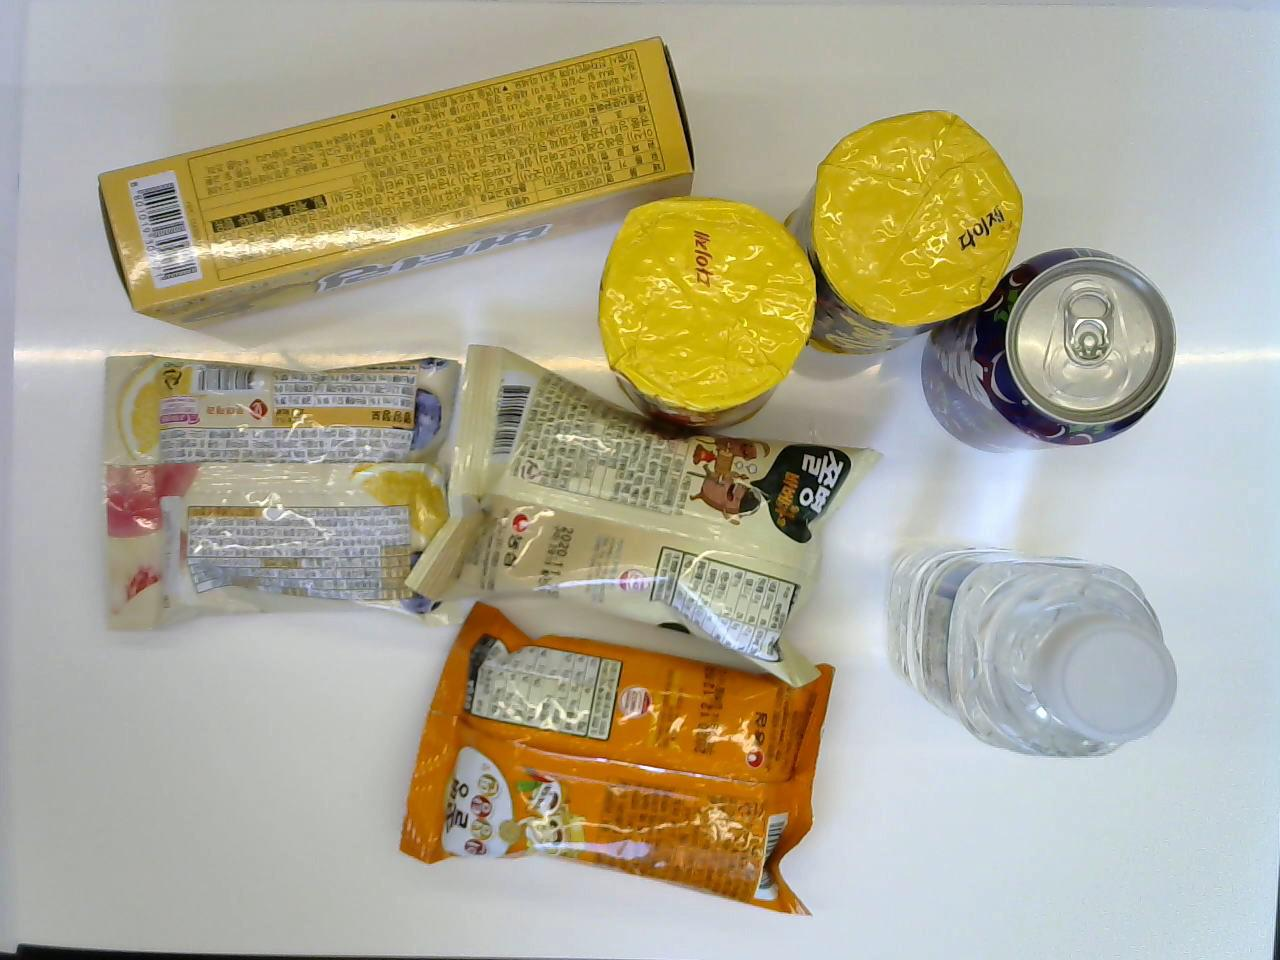buttering: (96, 31, 703, 328)
diget_choco: (777, 101, 1026, 363)
diget_ori: (600, 192, 821, 439)
gumi_gumi: (92, 340, 462, 637)
jjolbyung_noodle: (399, 601, 840, 926)
jjolbyung_ori: (406, 340, 892, 684)
samdasu: (880, 539, 1182, 763)
welchs: (915, 245, 1177, 459)
